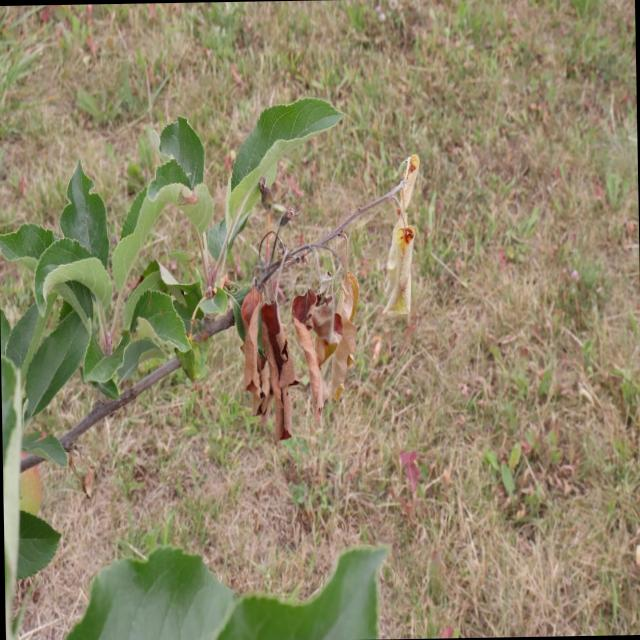-FireBlight-: (242, 250, 368, 444), (384, 156, 428, 326)
